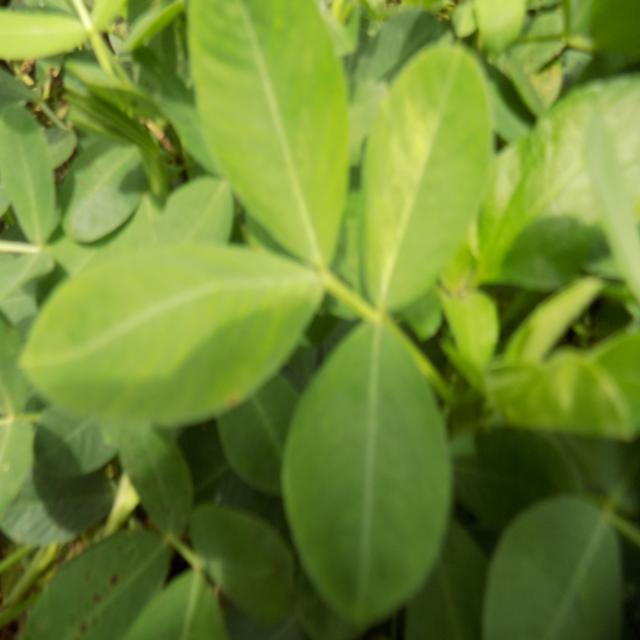Ground nut_healthy: (281, 320, 453, 629), (359, 30, 492, 318)
